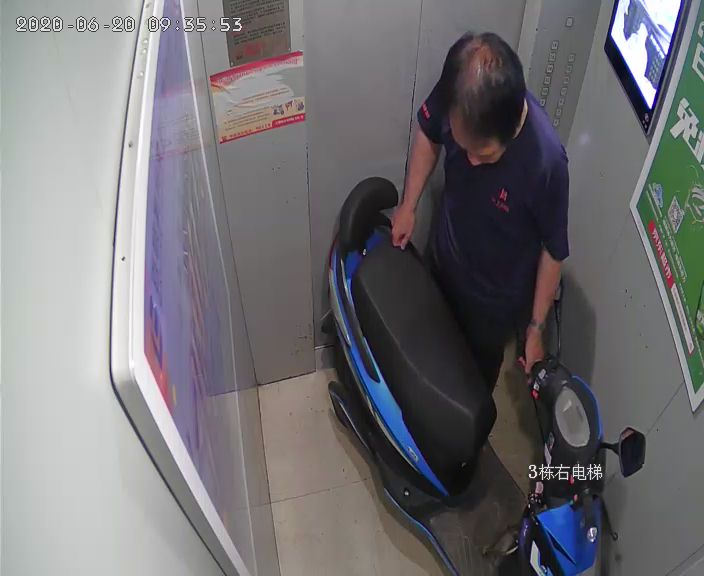Electric-bicycle: (322, 179, 640, 573)
